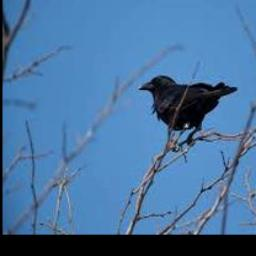Crow: (137, 74, 236, 146)
